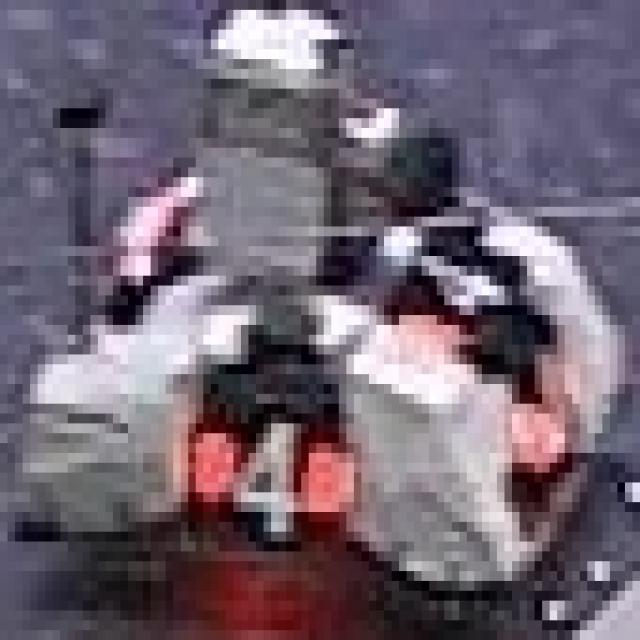R4: (188, 404, 354, 532)
